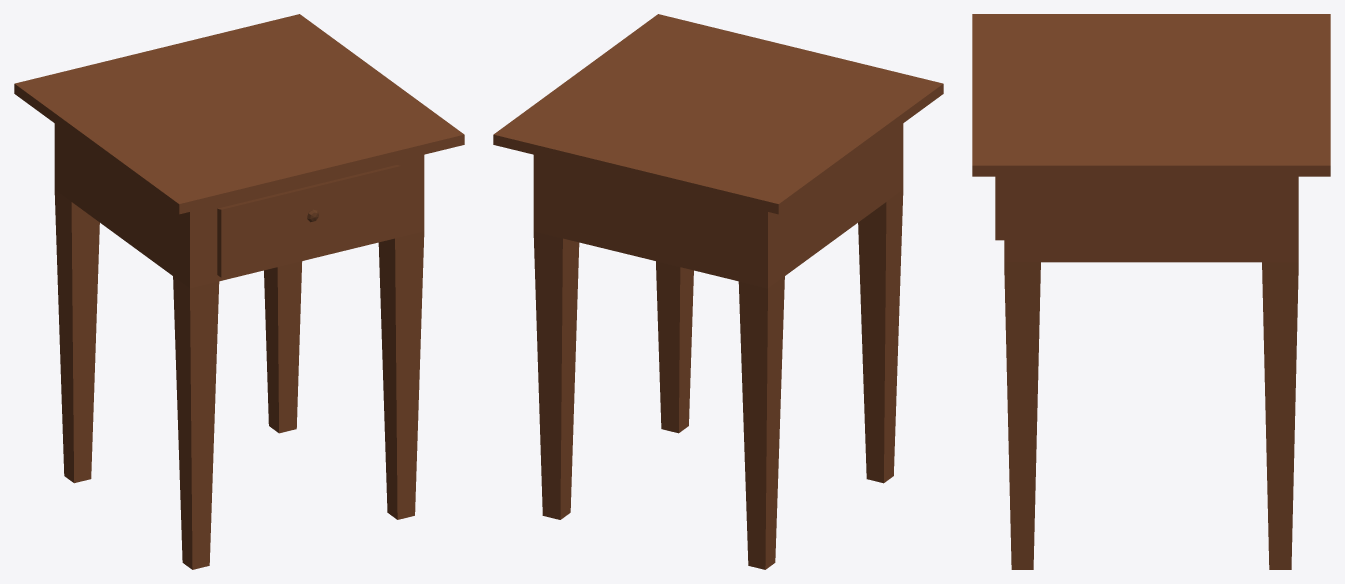
Rendered from tableenddrawer01.obj.
3 views of the same model, side by side, from view 1: azimuth 30°, elevation 25°; view 2: azimuth 150°, elevation 25°; view 3: azimuth 270°, elevation 25° (orthographic). The views are drawn at different scales.
Parts seen in each view (by area): view 1: Cube.001_Cube.004; view 2: Cube.001_Cube.004; view 3: Cube.001_Cube.004.
Part boxes in pixels (x1=…): Cube.001_Cube.004: x1=14, y1=14, x2=464, y2=569; Cube.001_Cube.004: x1=493, y1=14, x2=943, y2=569; Cube.001_Cube.004: x1=972, y1=14, x2=1330, y2=569.
Bounding box in the file's own units: 0.5604 × 0.7259 × 0.5604.
